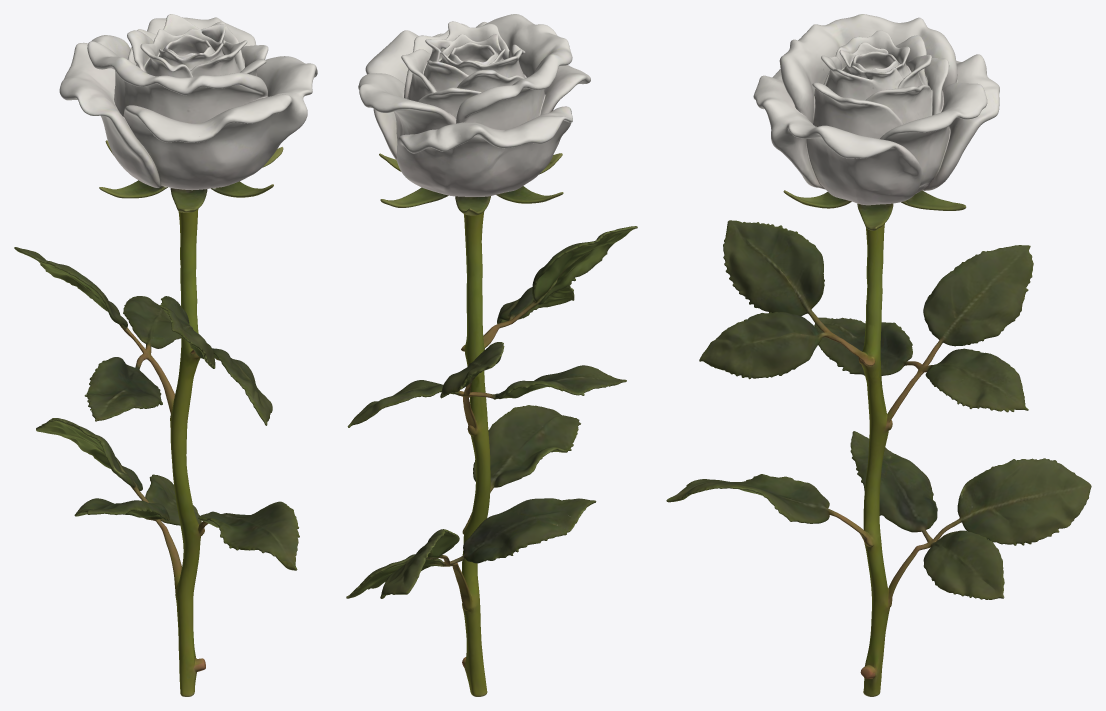
The model's file is white+rose+3d+model (4).glb.
The picture shows the model from 3 angles, left to right: view 1: azimuth 30°, elevation 25°; view 2: azimuth 150°, elevation 25°; view 3: azimuth 270°, elevation 25°; orthographic projection.
Parts seen in each view (by area): view 1: tripo_node_f55f4e5d-36ec-47ee-88f3-f3b0b086bf4f; view 2: tripo_node_f55f4e5d-36ec-47ee-88f3-f3b0b086bf4f; view 3: tripo_node_f55f4e5d-36ec-47ee-88f3-f3b0b086bf4f.
Boxes of the visible parts, x1=… form: tripo_node_f55f4e5d-36ec-47ee-88f3-f3b0b086bf4f: x1=14, y1=14, x2=317, y2=696; tripo_node_f55f4e5d-36ec-47ee-88f3-f3b0b086bf4f: x1=346, y1=14, x2=637, y2=696; tripo_node_f55f4e5d-36ec-47ee-88f3-f3b0b086bf4f: x1=666, y1=14, x2=1091, y2=696.
Bounding box in the file's own units: 0.3763 × 1 × 0.5954.
1 material, 1 textured.
